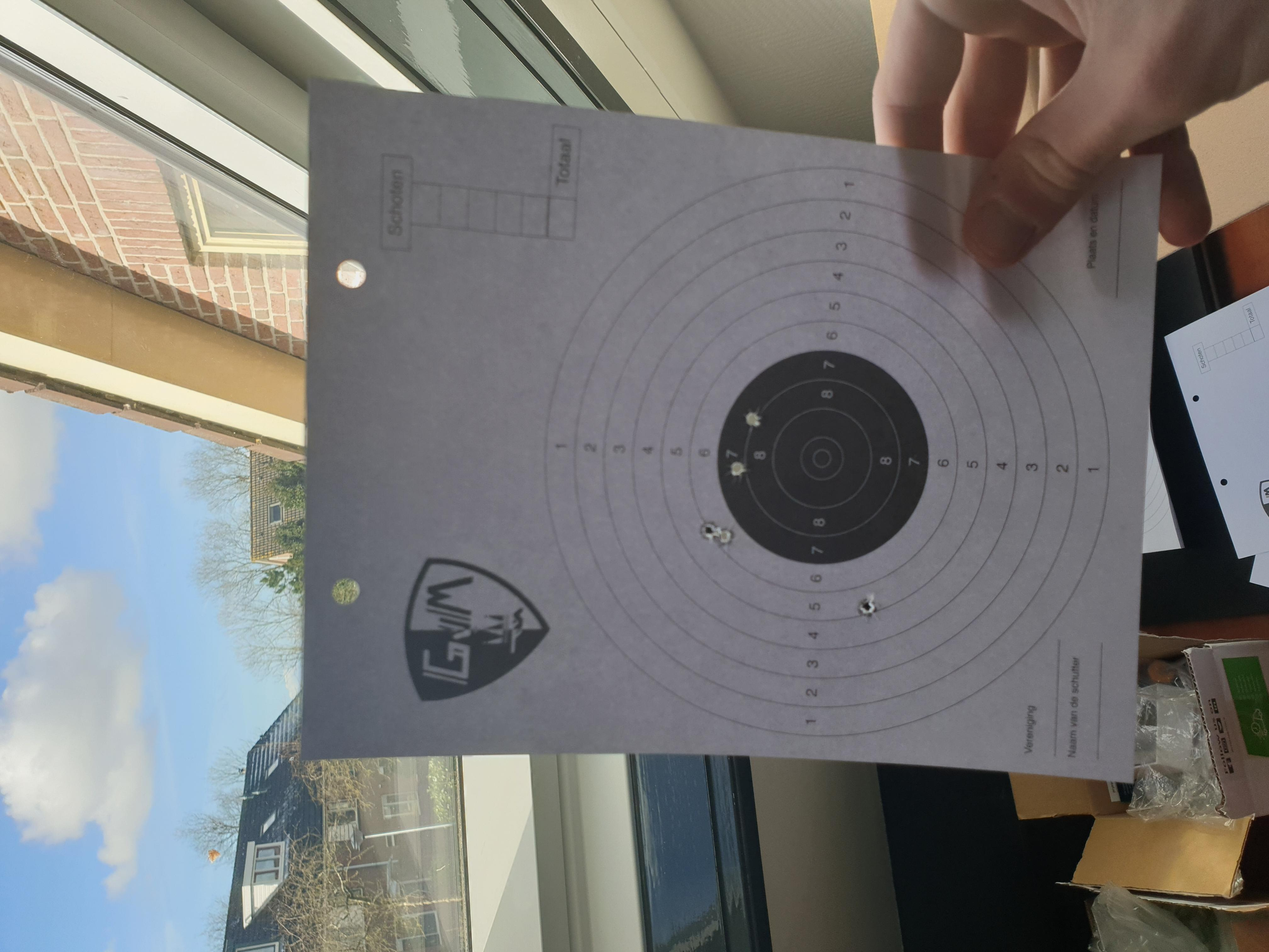hole: (441, 642, 477, 661), (697, 558, 730, 574), (630, 545, 656, 562), (549, 524, 573, 539), (543, 538, 565, 550)
